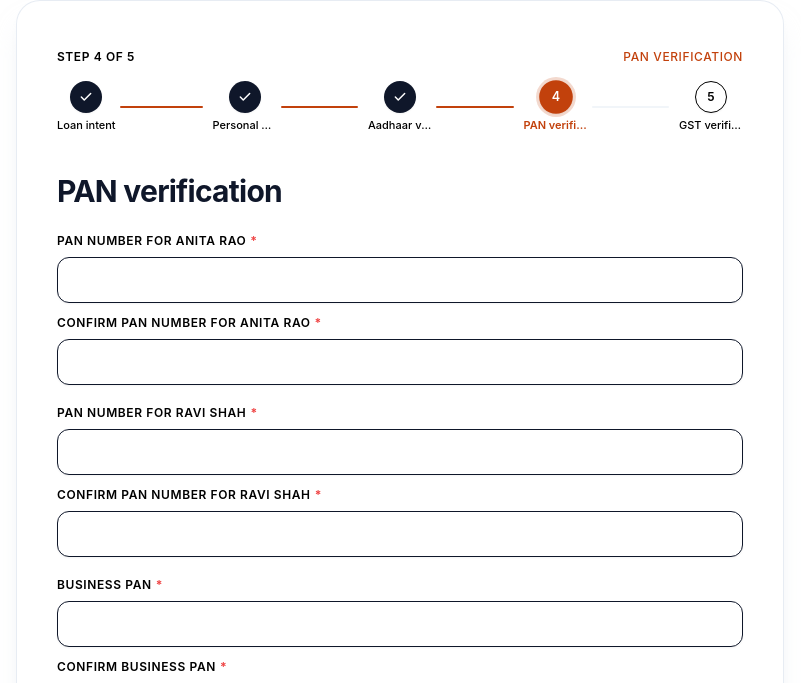
Test: WizardShell Phase 3 browser integration › blocks an entity PAN that matches any entered party personal PAN before writing
expect the heading "PAN verification" is shown: met, box [57,173,282,209]
Type "ABCDE1234F" into the field labelled "PAN number for Anita Rao" at (400, 280), box [57,257,743,303]
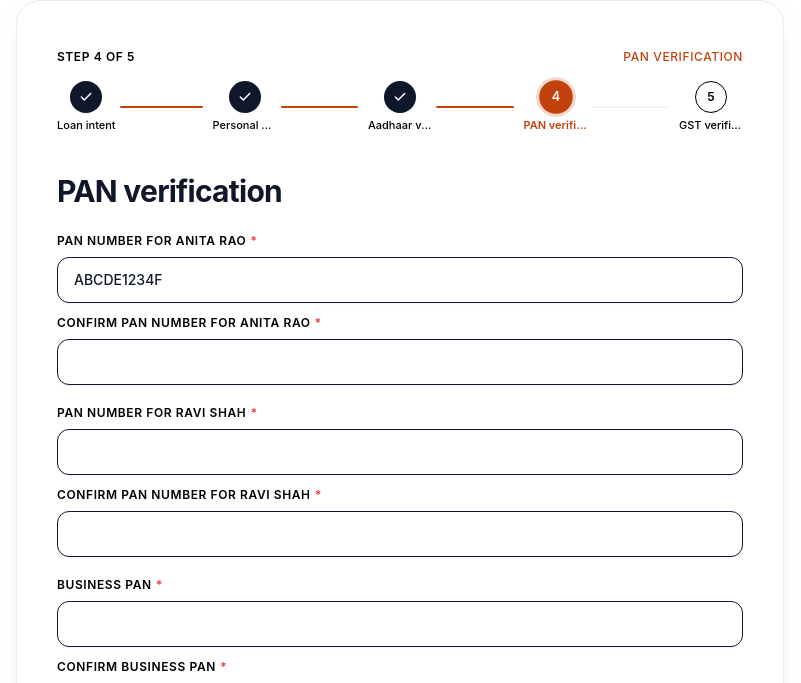
Type "FGHIJ5678K" into the field labelled "PAN number for Ravi Shah" at (400, 452), box [57,429,743,475]
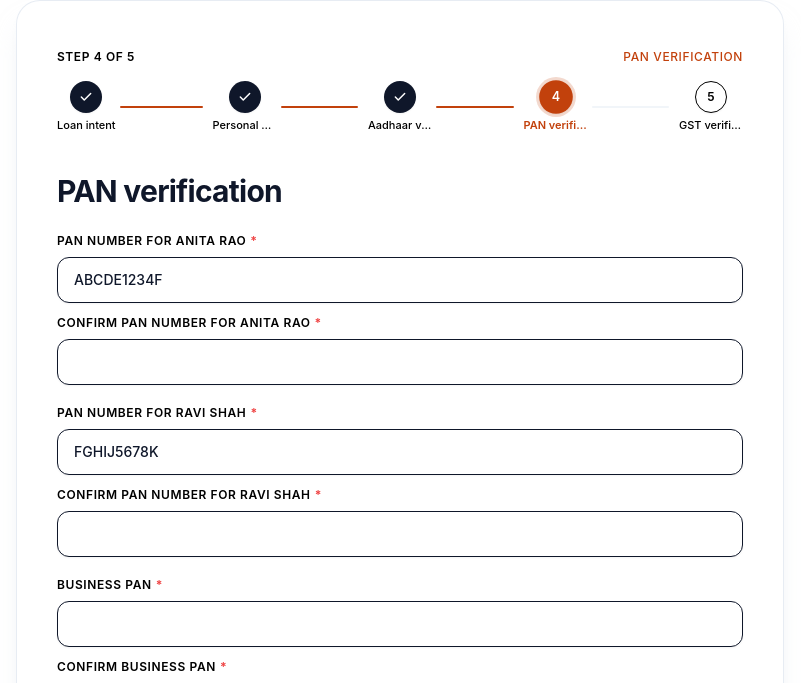
Type "FGHIJ5678K" into the field with id "entity_pan" at (400, 624), box [57,601,743,647]
(page scrolled)
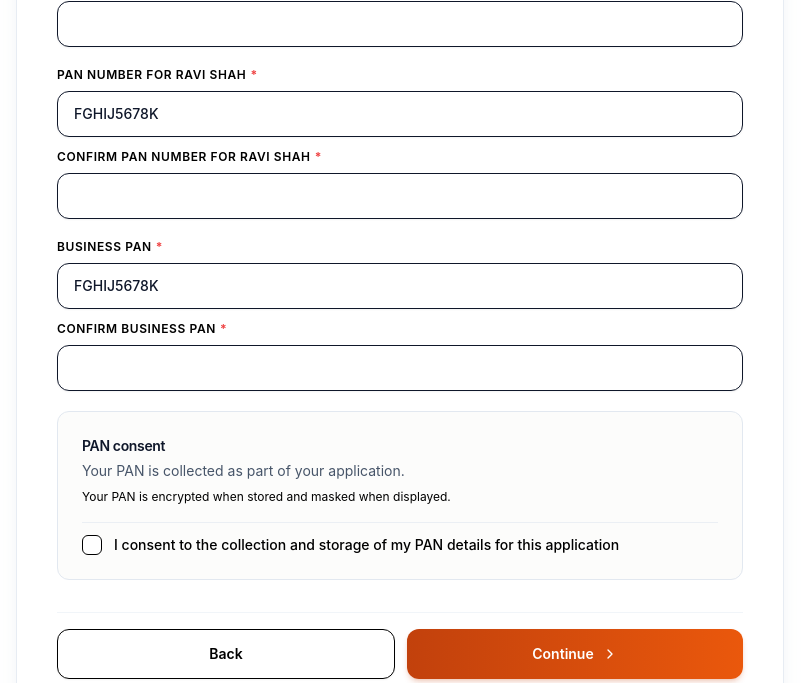
Click the checkbox named "PAN consent" at (400, 538), box [82,522,718,555]
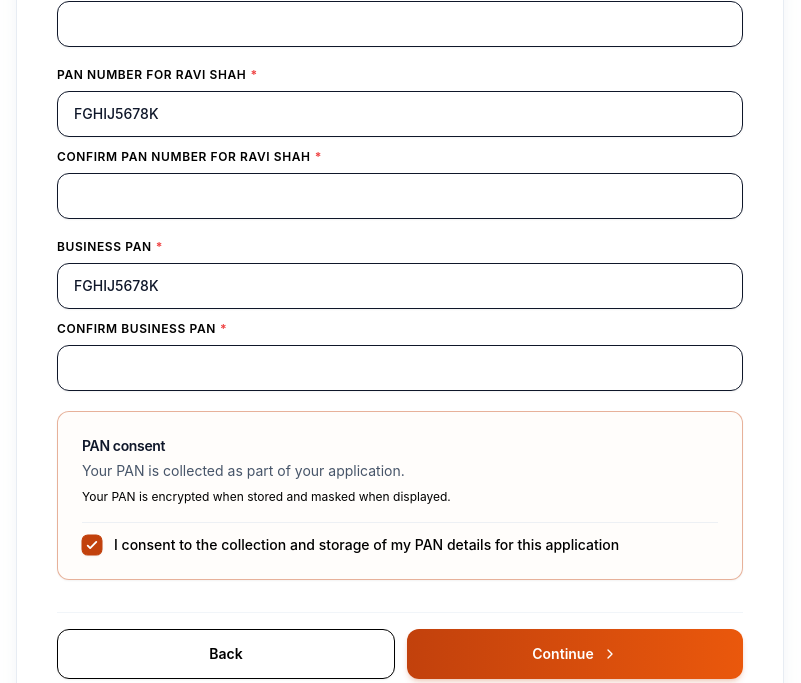
Click the button "Continue" at (575, 654), box [407,629,743,679]
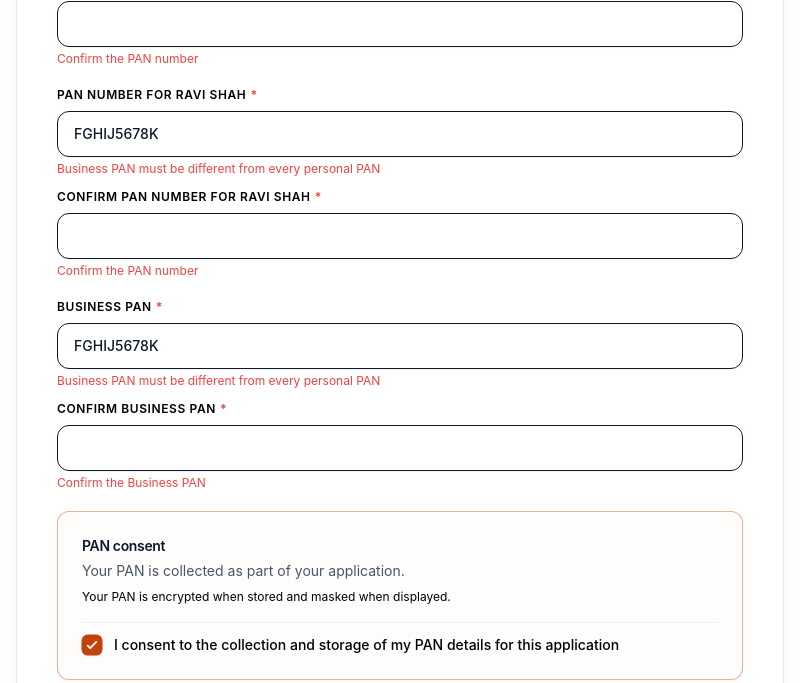
expect the text "Business PAN must be different from every personal PAN" is shown 2 times: met, box [57,161,380,176]; [57,373,380,388]
